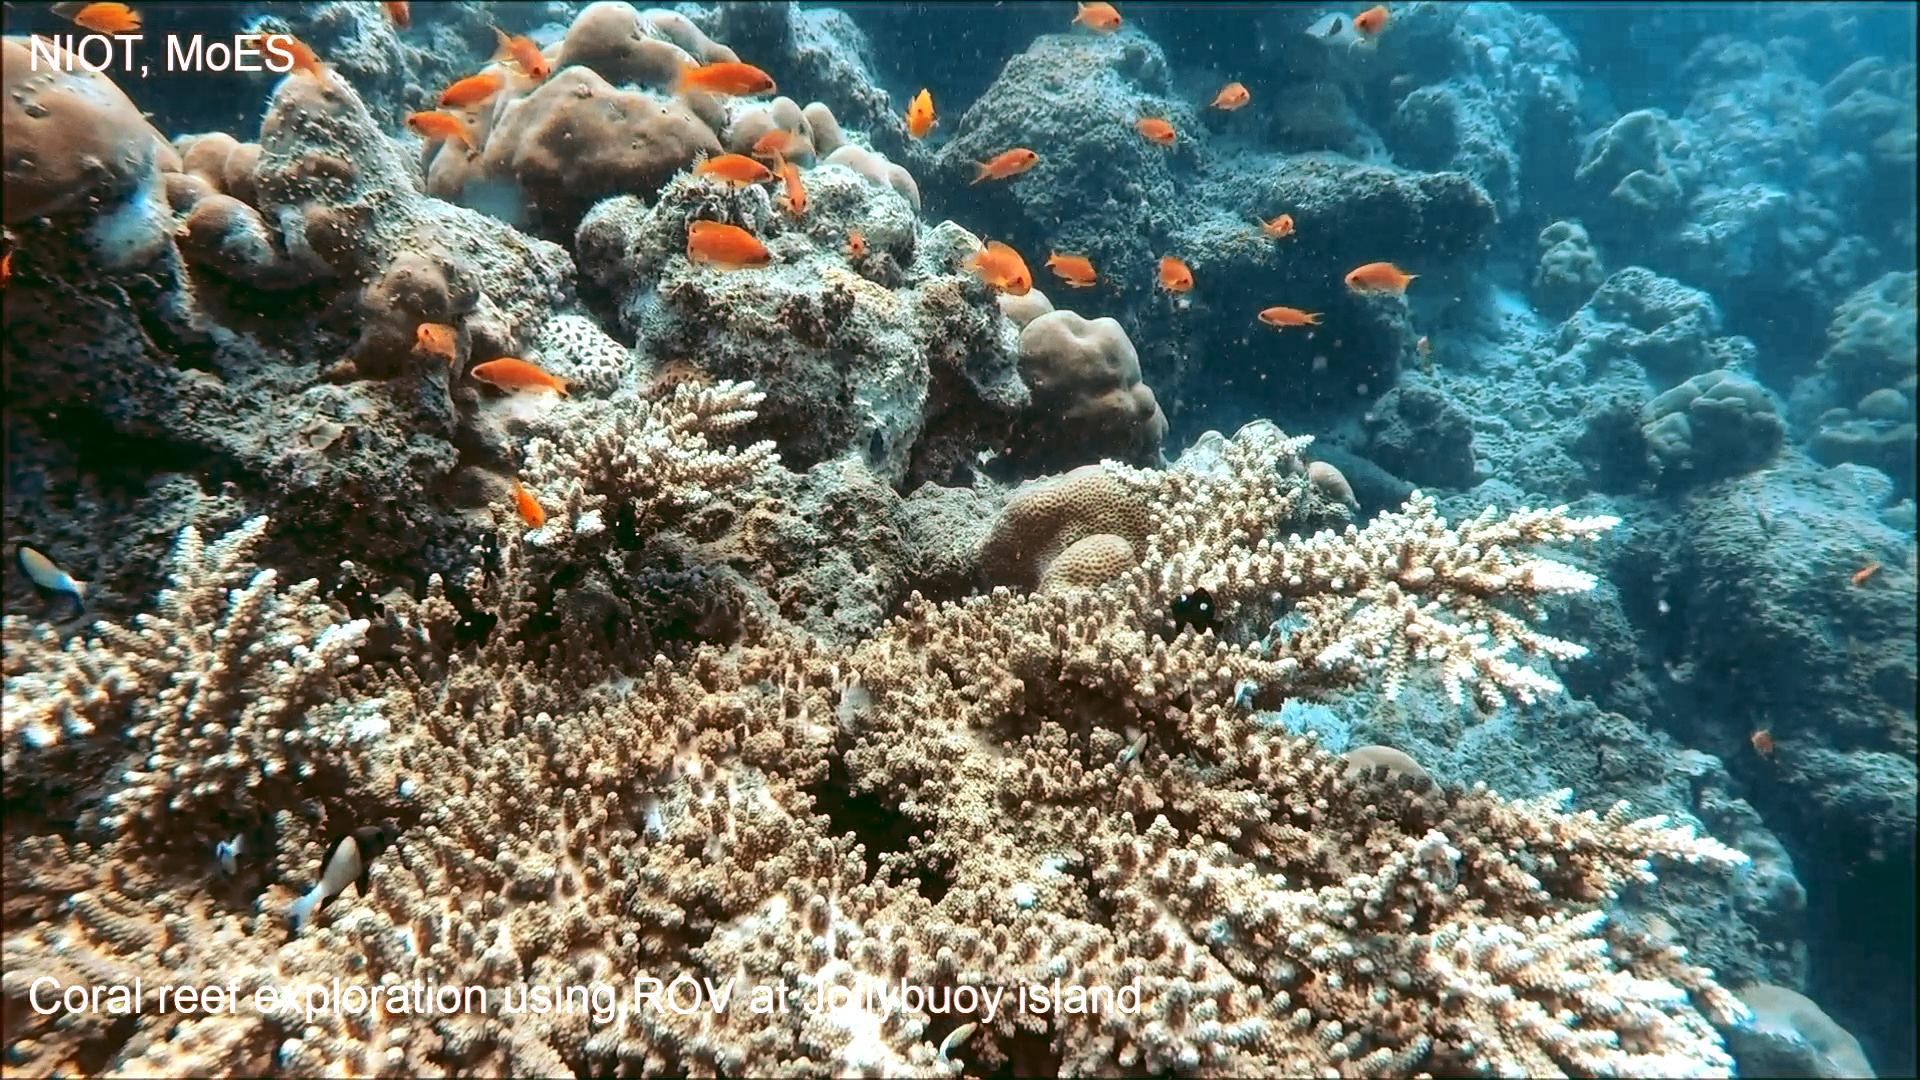Porites-Porites pukoensis: (414, 0, 786, 216), (0, 29, 160, 241)
